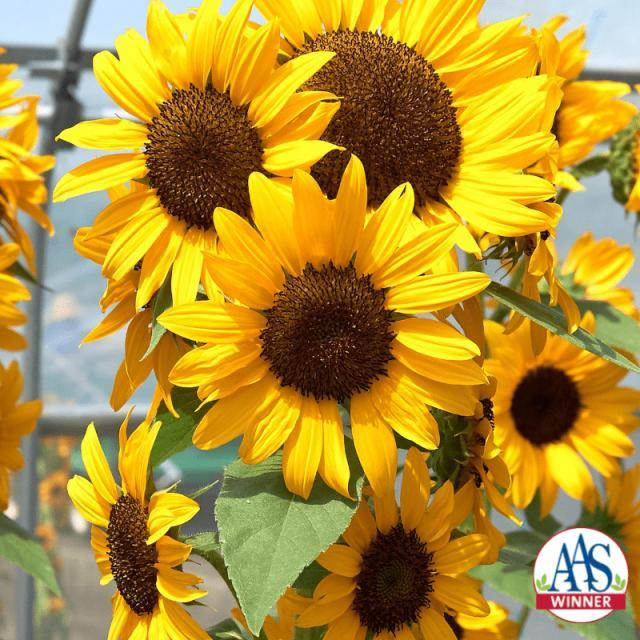sunflower: (156, 154, 492, 502), (248, 0, 563, 320), (51, 0, 346, 310), (73, 148, 224, 424), (292, 446, 494, 640), (66, 406, 212, 638), (478, 311, 638, 519), (468, 155, 584, 352), (515, 13, 636, 192), (230, 569, 520, 640), (0, 47, 55, 275), (582, 466, 640, 631), (561, 231, 640, 319), (0, 357, 42, 512), (450, 400, 507, 488), (0, 240, 31, 351), (626, 128, 640, 213)
